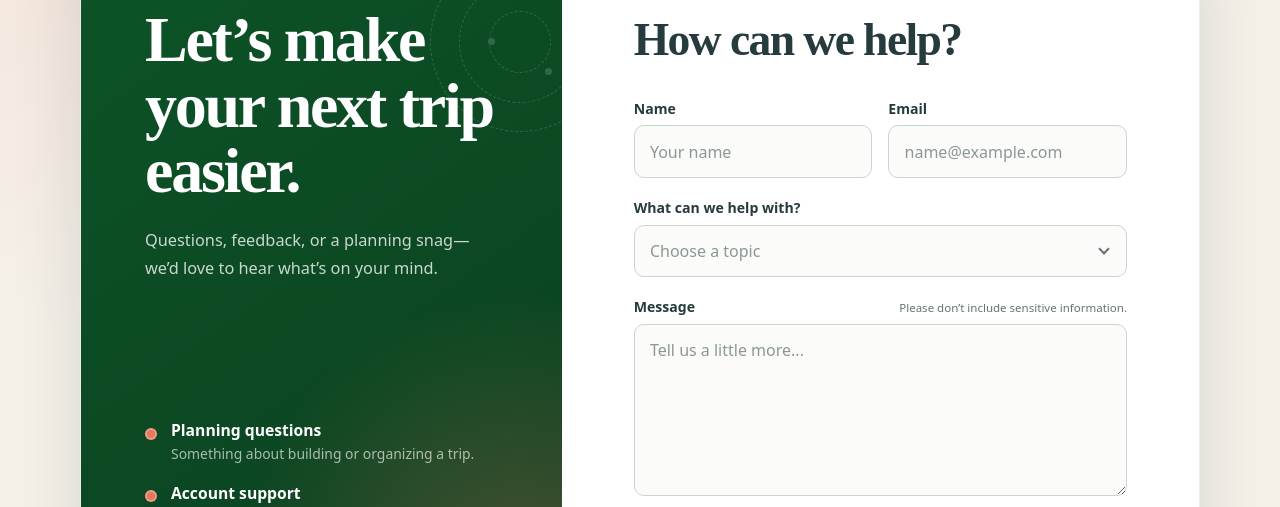
Scenario: ContactUs component › submits the contact message to the public API and shows confirmation
Type "Jane Doe" into the field labelled "Name" at [753, 152], box [634,125,872,178]
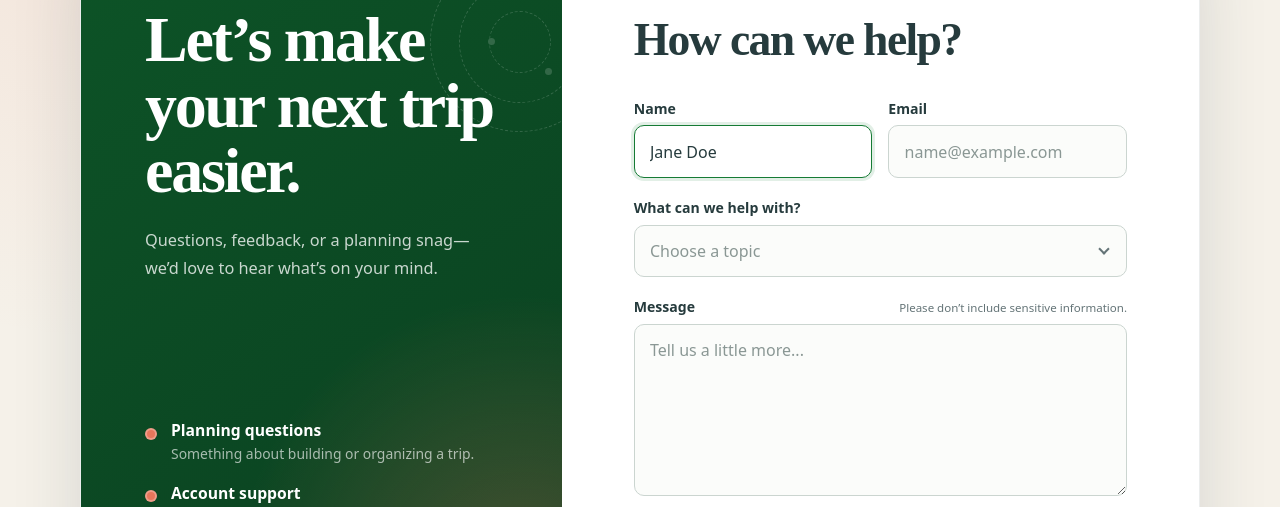
Type "jane@example.com" into the field labelled "Email" at [1008, 152], box [888,125,1127,178]
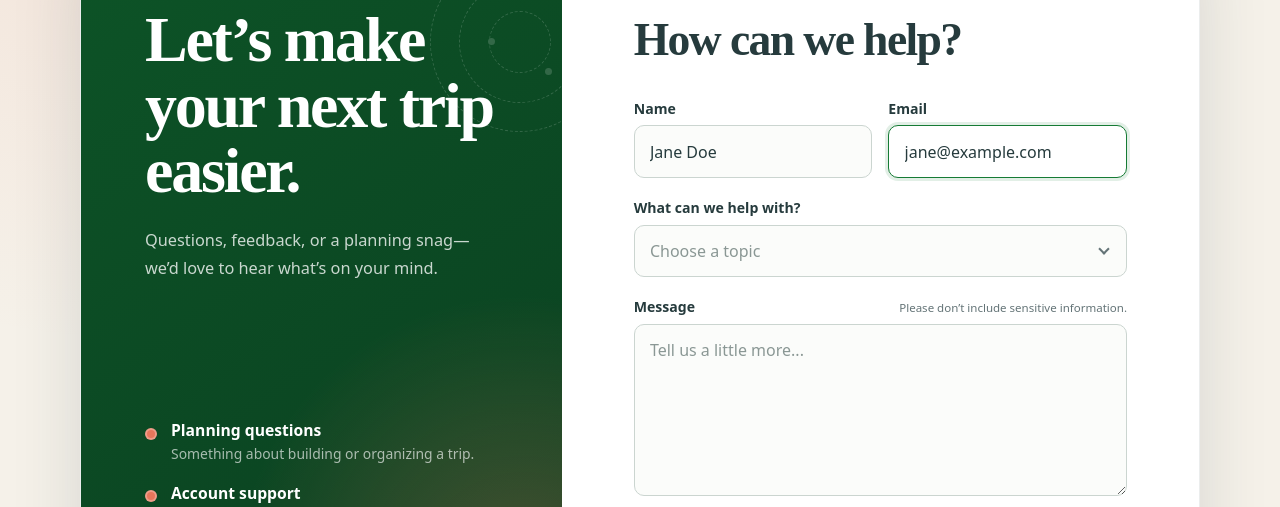
Click the button named "what can we help with" at [705, 251], box [634,225,1127,277]
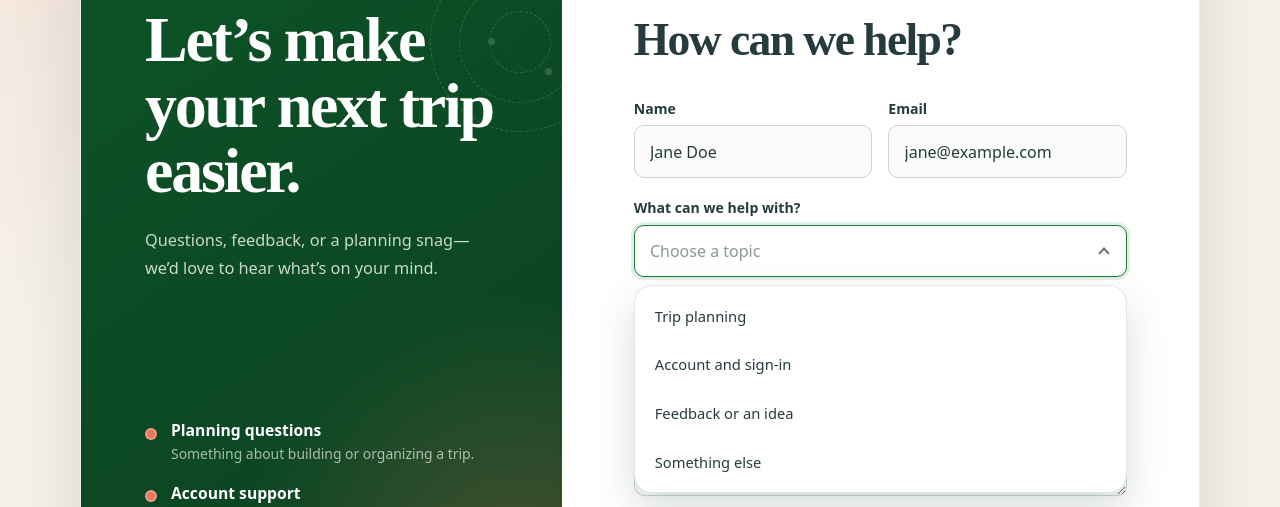
Click the option "Trip planning" at [700, 316], box [643,294,1118,338]
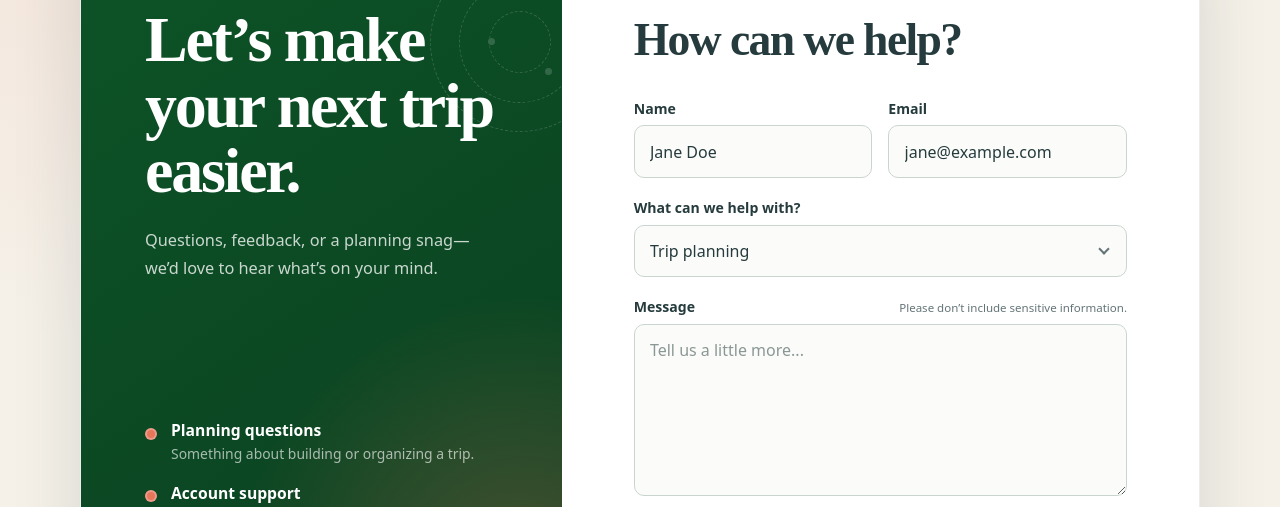
Type "Please help with my itinerary." into the text box labelled "Message" at [880, 410], box [634,324,1127,496]
(page scrolled)
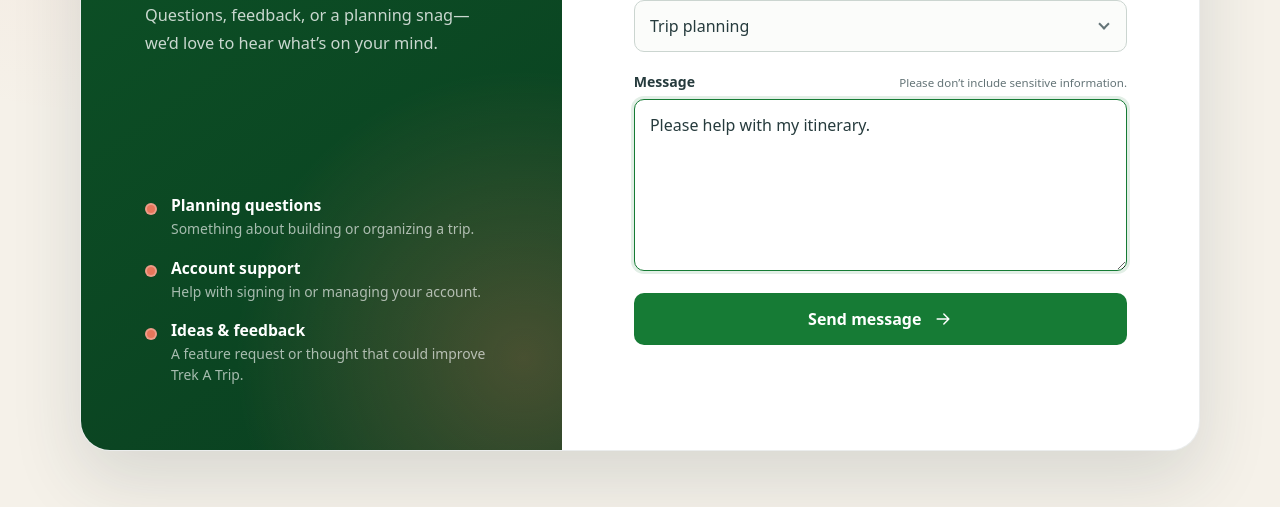
Click the button "Send message" at [880, 319], box [634,294,1127,345]
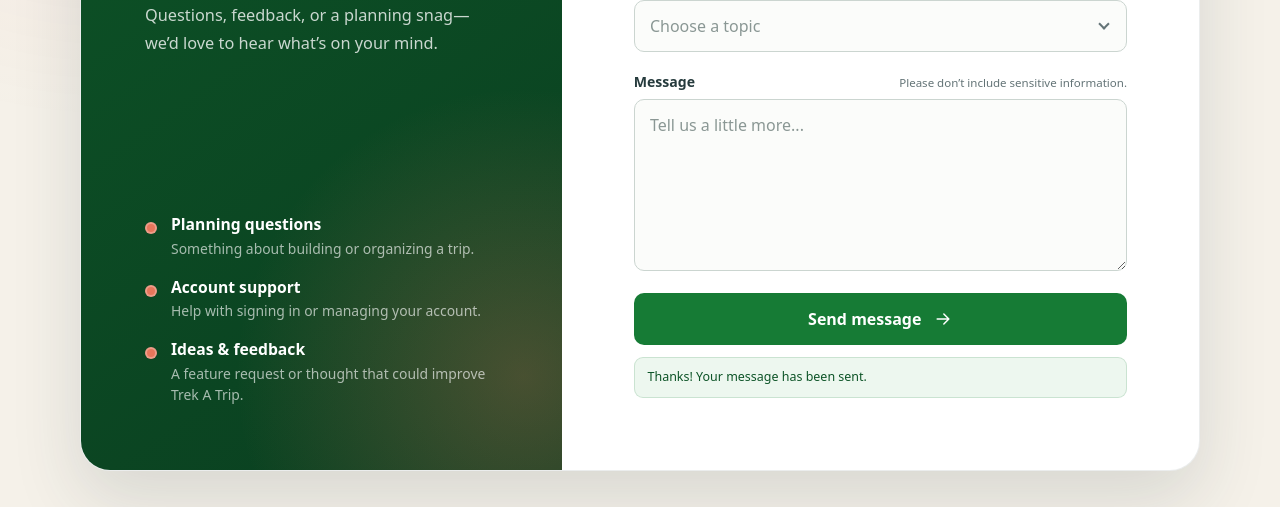
Now the text "Thanks! Your message has been sent." is shown, box [634,357,1127,398]
